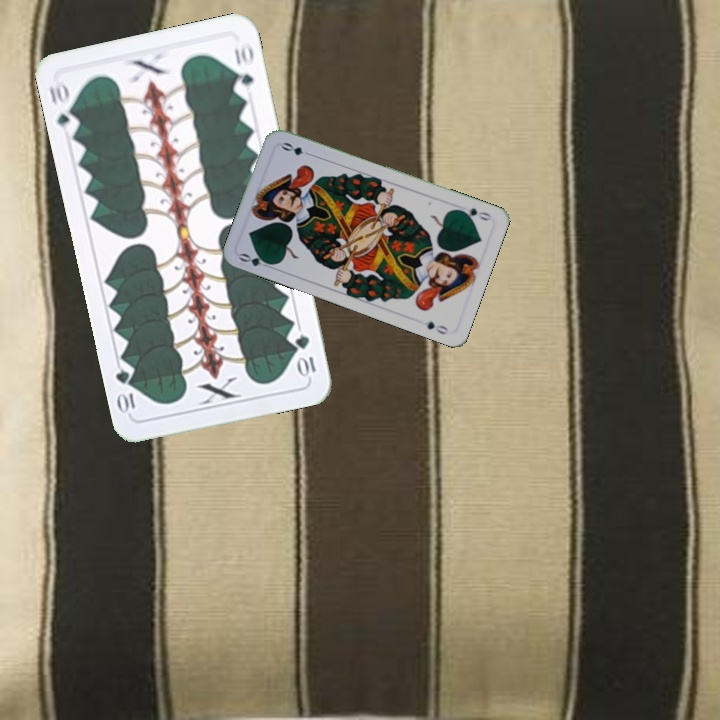G10: (45, 77, 81, 137), (291, 330, 319, 380)
GO: (235, 249, 276, 271), (454, 203, 493, 223)
